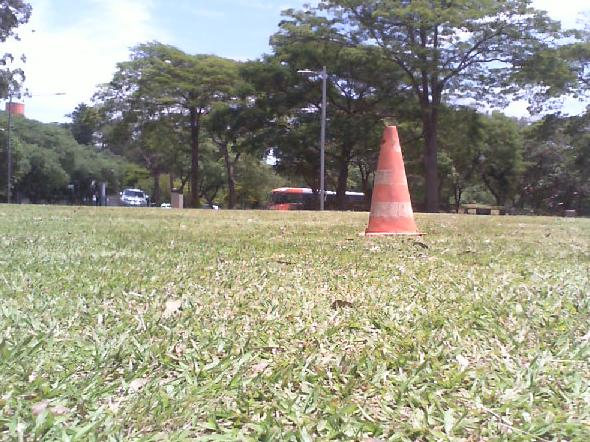0 cone: (359, 126, 426, 235)
